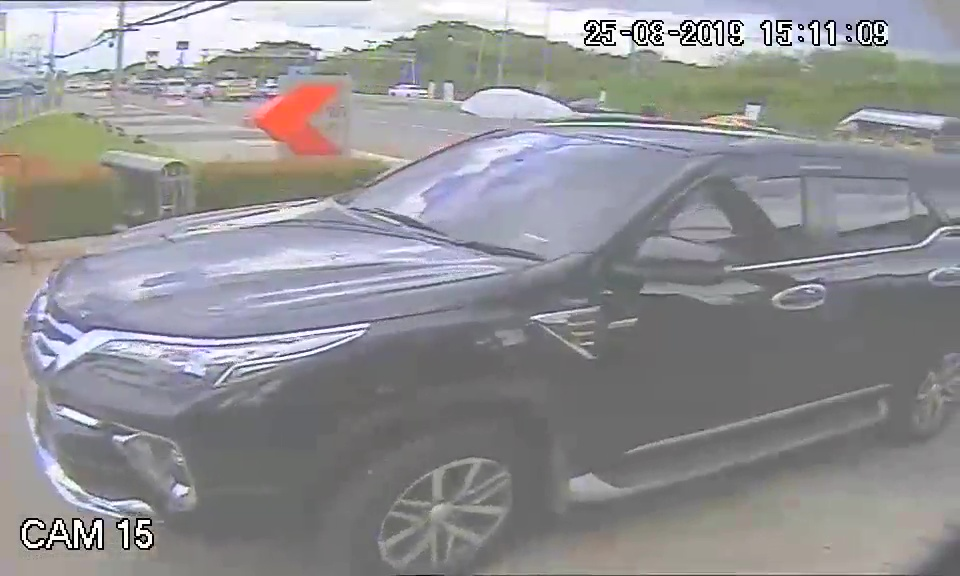pickup: (18, 114, 908, 517)
